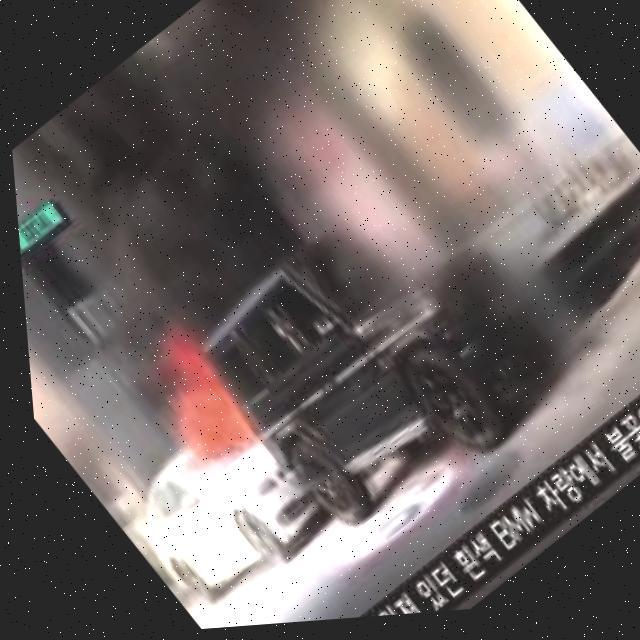Fire: (164, 379, 253, 473)
